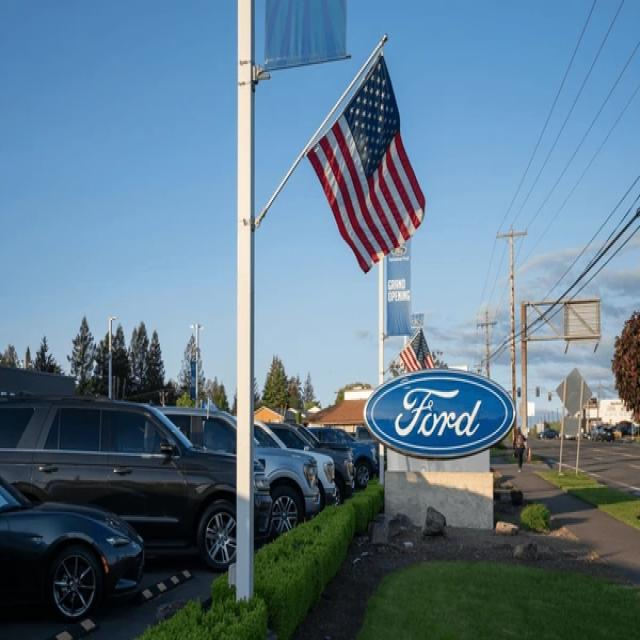ford: (362, 374, 518, 451)
